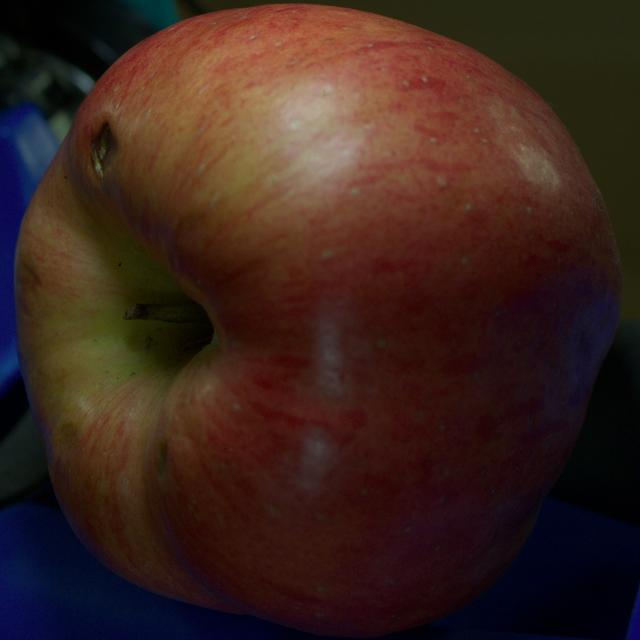apple: (15, 4, 621, 636)
bruise: (16, 260, 47, 319), (59, 423, 82, 458), (158, 441, 167, 476)
scratch: (92, 124, 110, 178)
